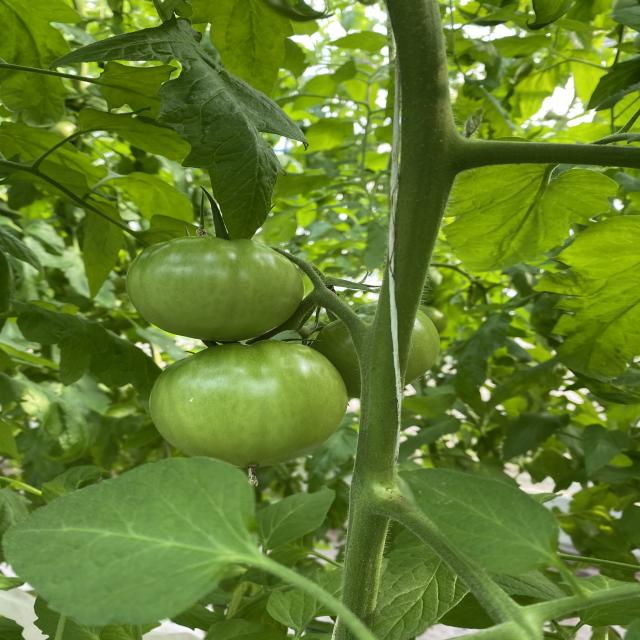yesil: (106, 238, 451, 479)
